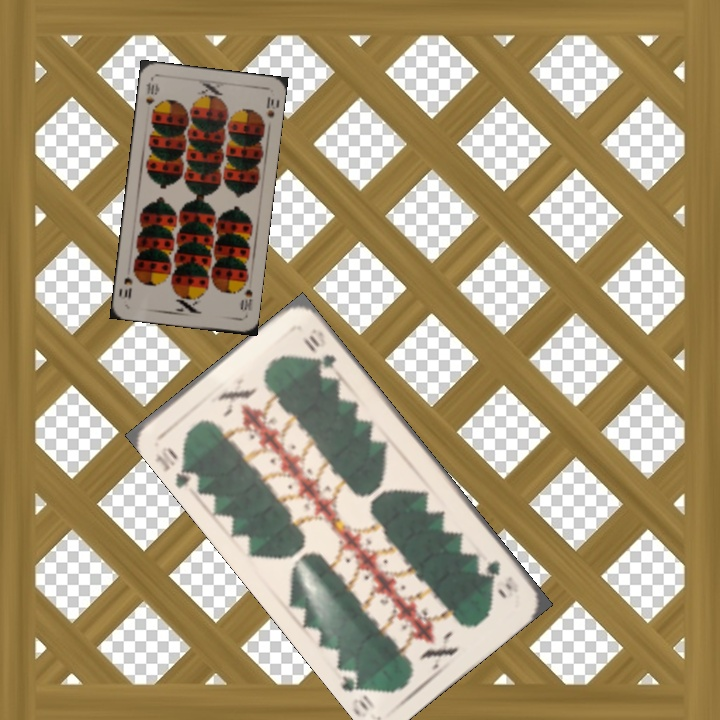G10: (151, 442, 203, 490), (482, 556, 515, 593)
S10: (142, 76, 161, 108), (236, 285, 255, 314)
